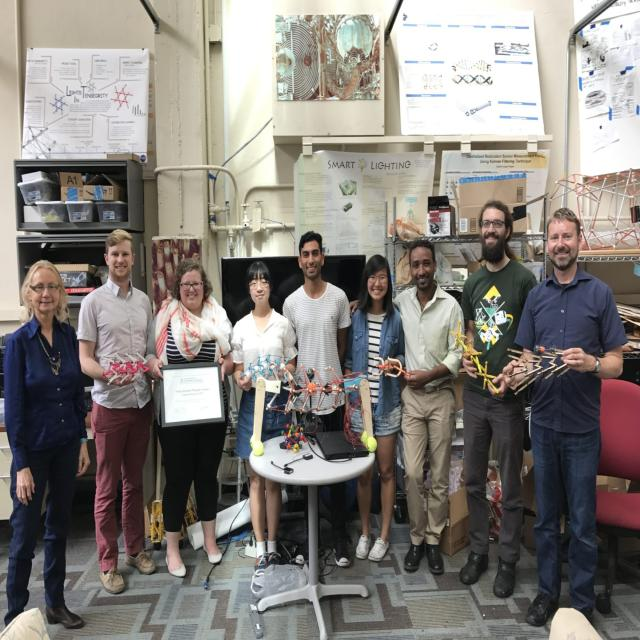body: (499, 202, 628, 636), (345, 237, 467, 576), (455, 196, 548, 604), (0, 258, 89, 640), (75, 224, 159, 598), (142, 255, 237, 580), (282, 231, 352, 568), (341, 249, 408, 565), (231, 259, 297, 577)
